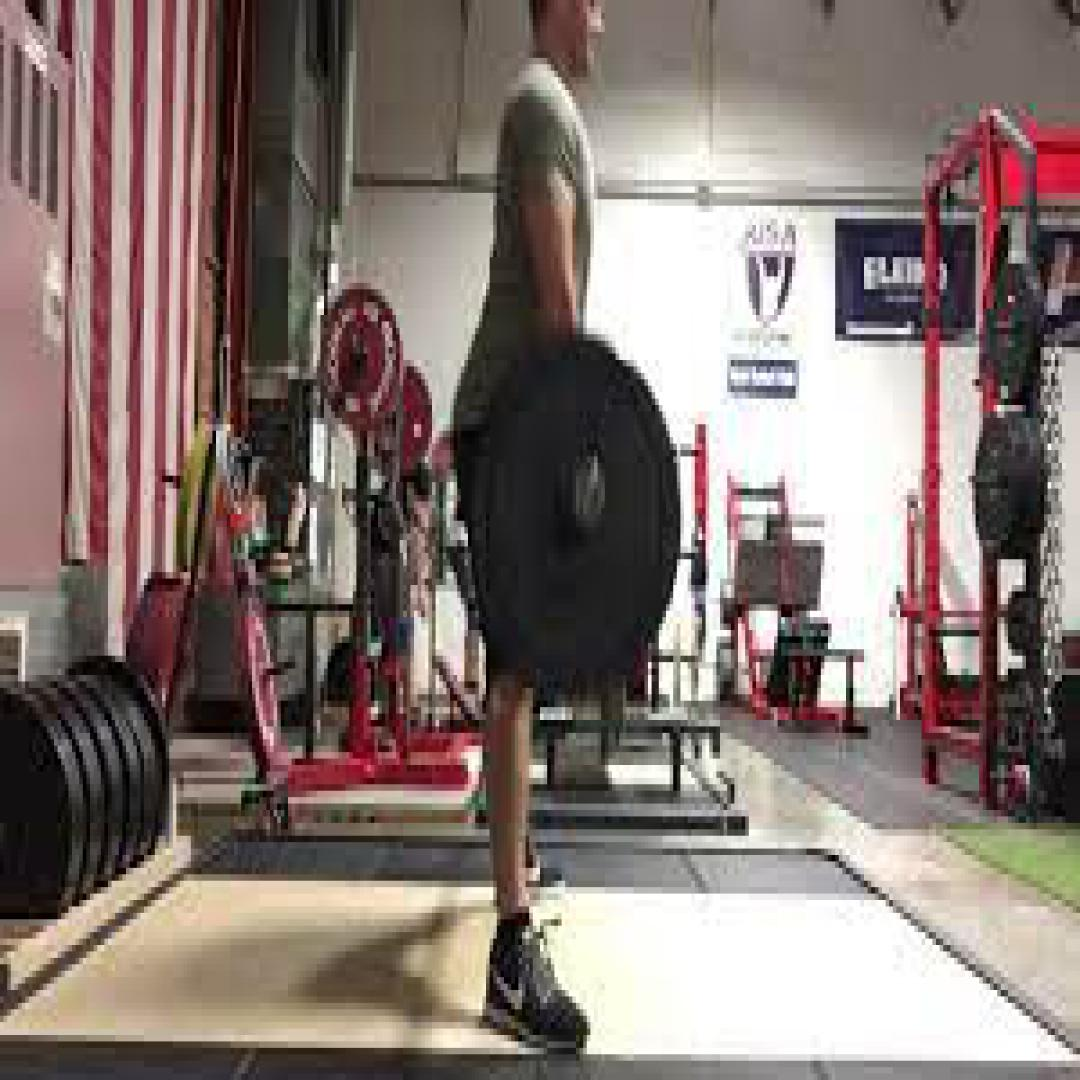Bar: (566, 459, 609, 529)
Barbell: (476, 341, 681, 681)
